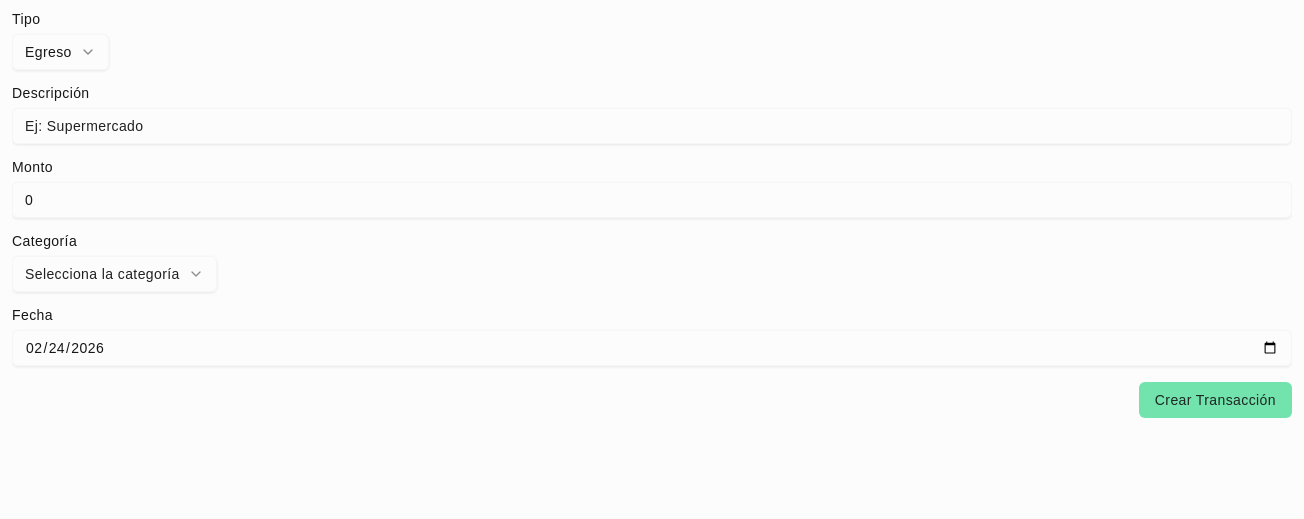
Scenario: TransactionForm › Validación de formulario › debe mostrar error cuando la descripción está vacía
Click the button "Crear Transacción".
click(1215, 400)  # box top-left (1139, 382), bottom-right (1292, 418)
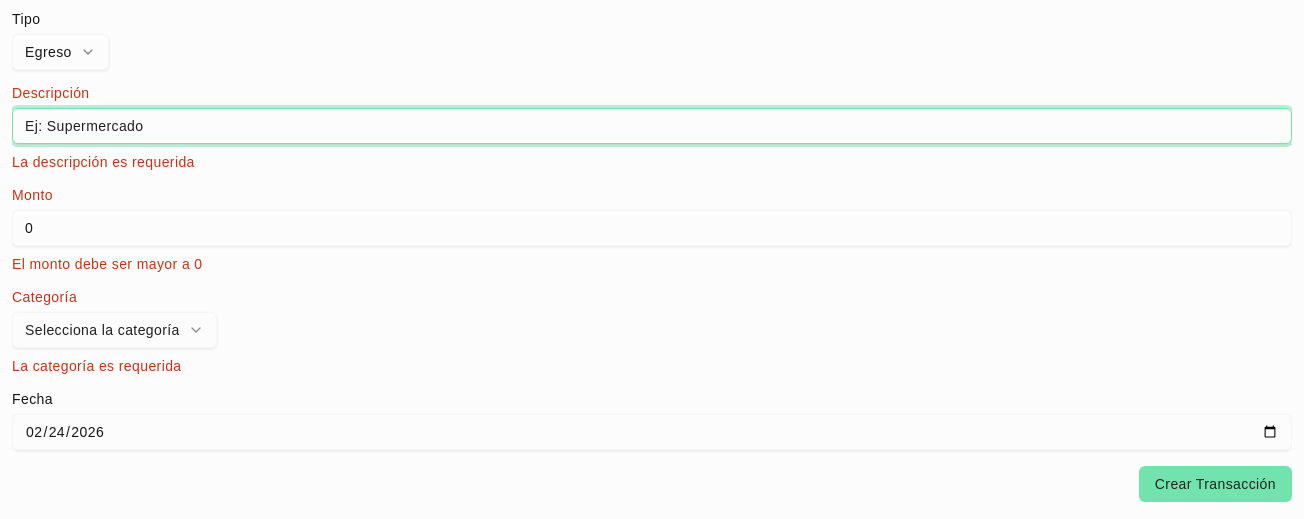
Check: the text "La descripción es requerida" is shown, box top-left (12, 154), bottom-right (195, 170)
